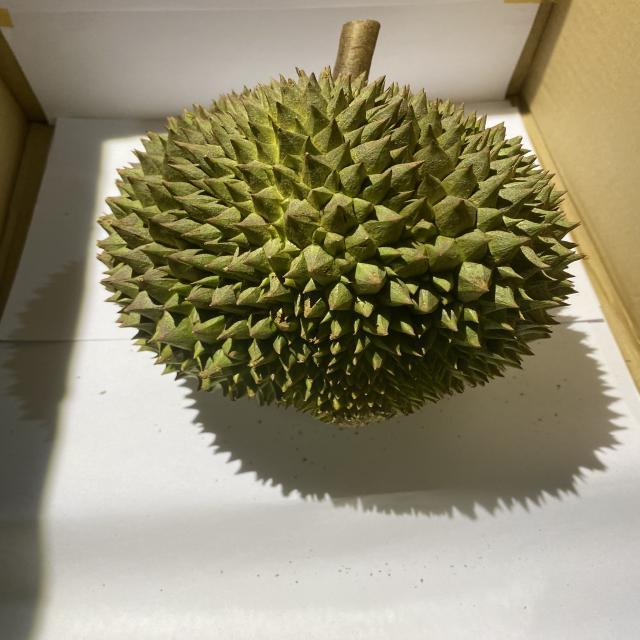immature: (93, 64, 589, 432)
